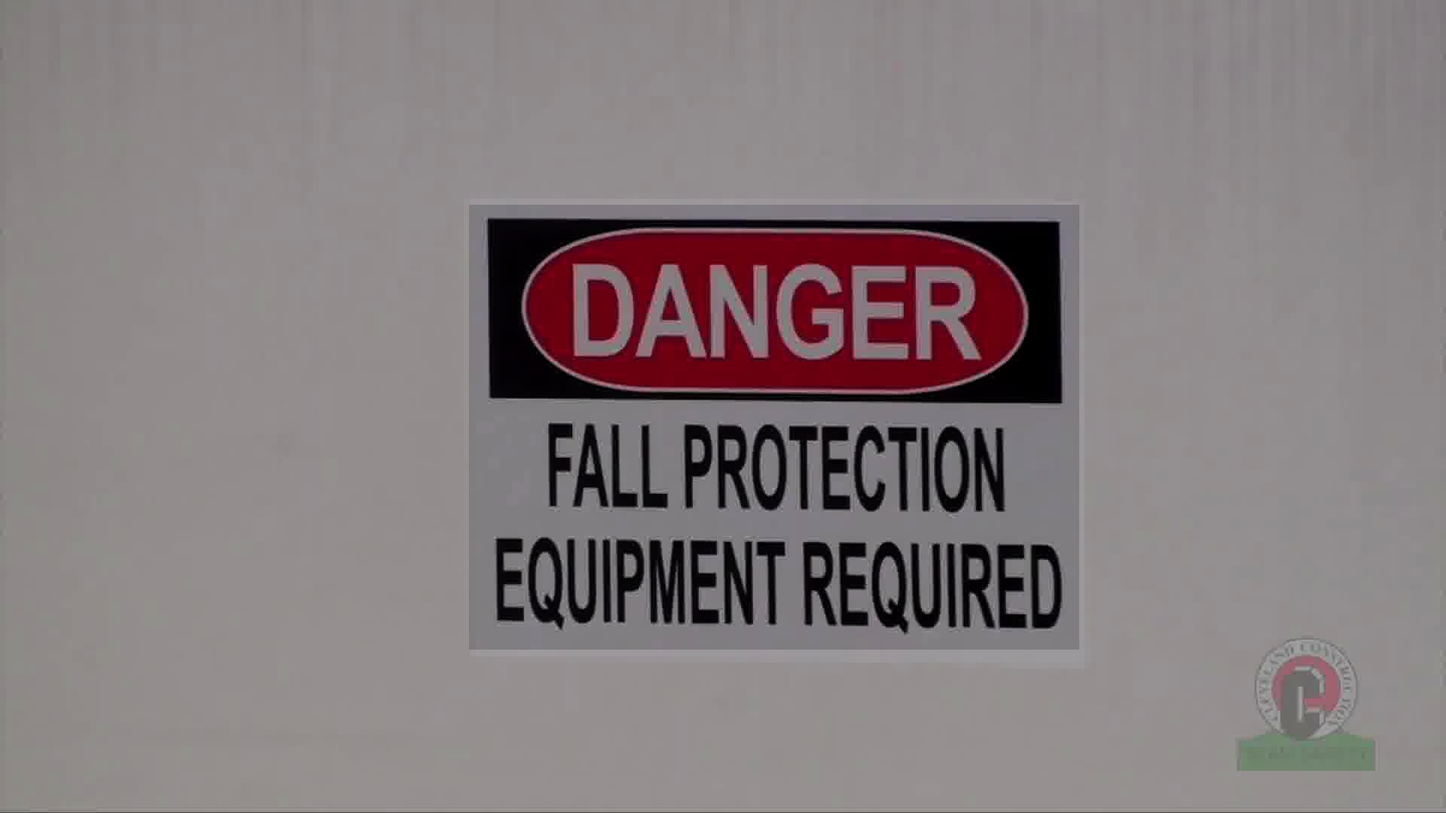safety_signage: (469, 205, 1079, 650)
